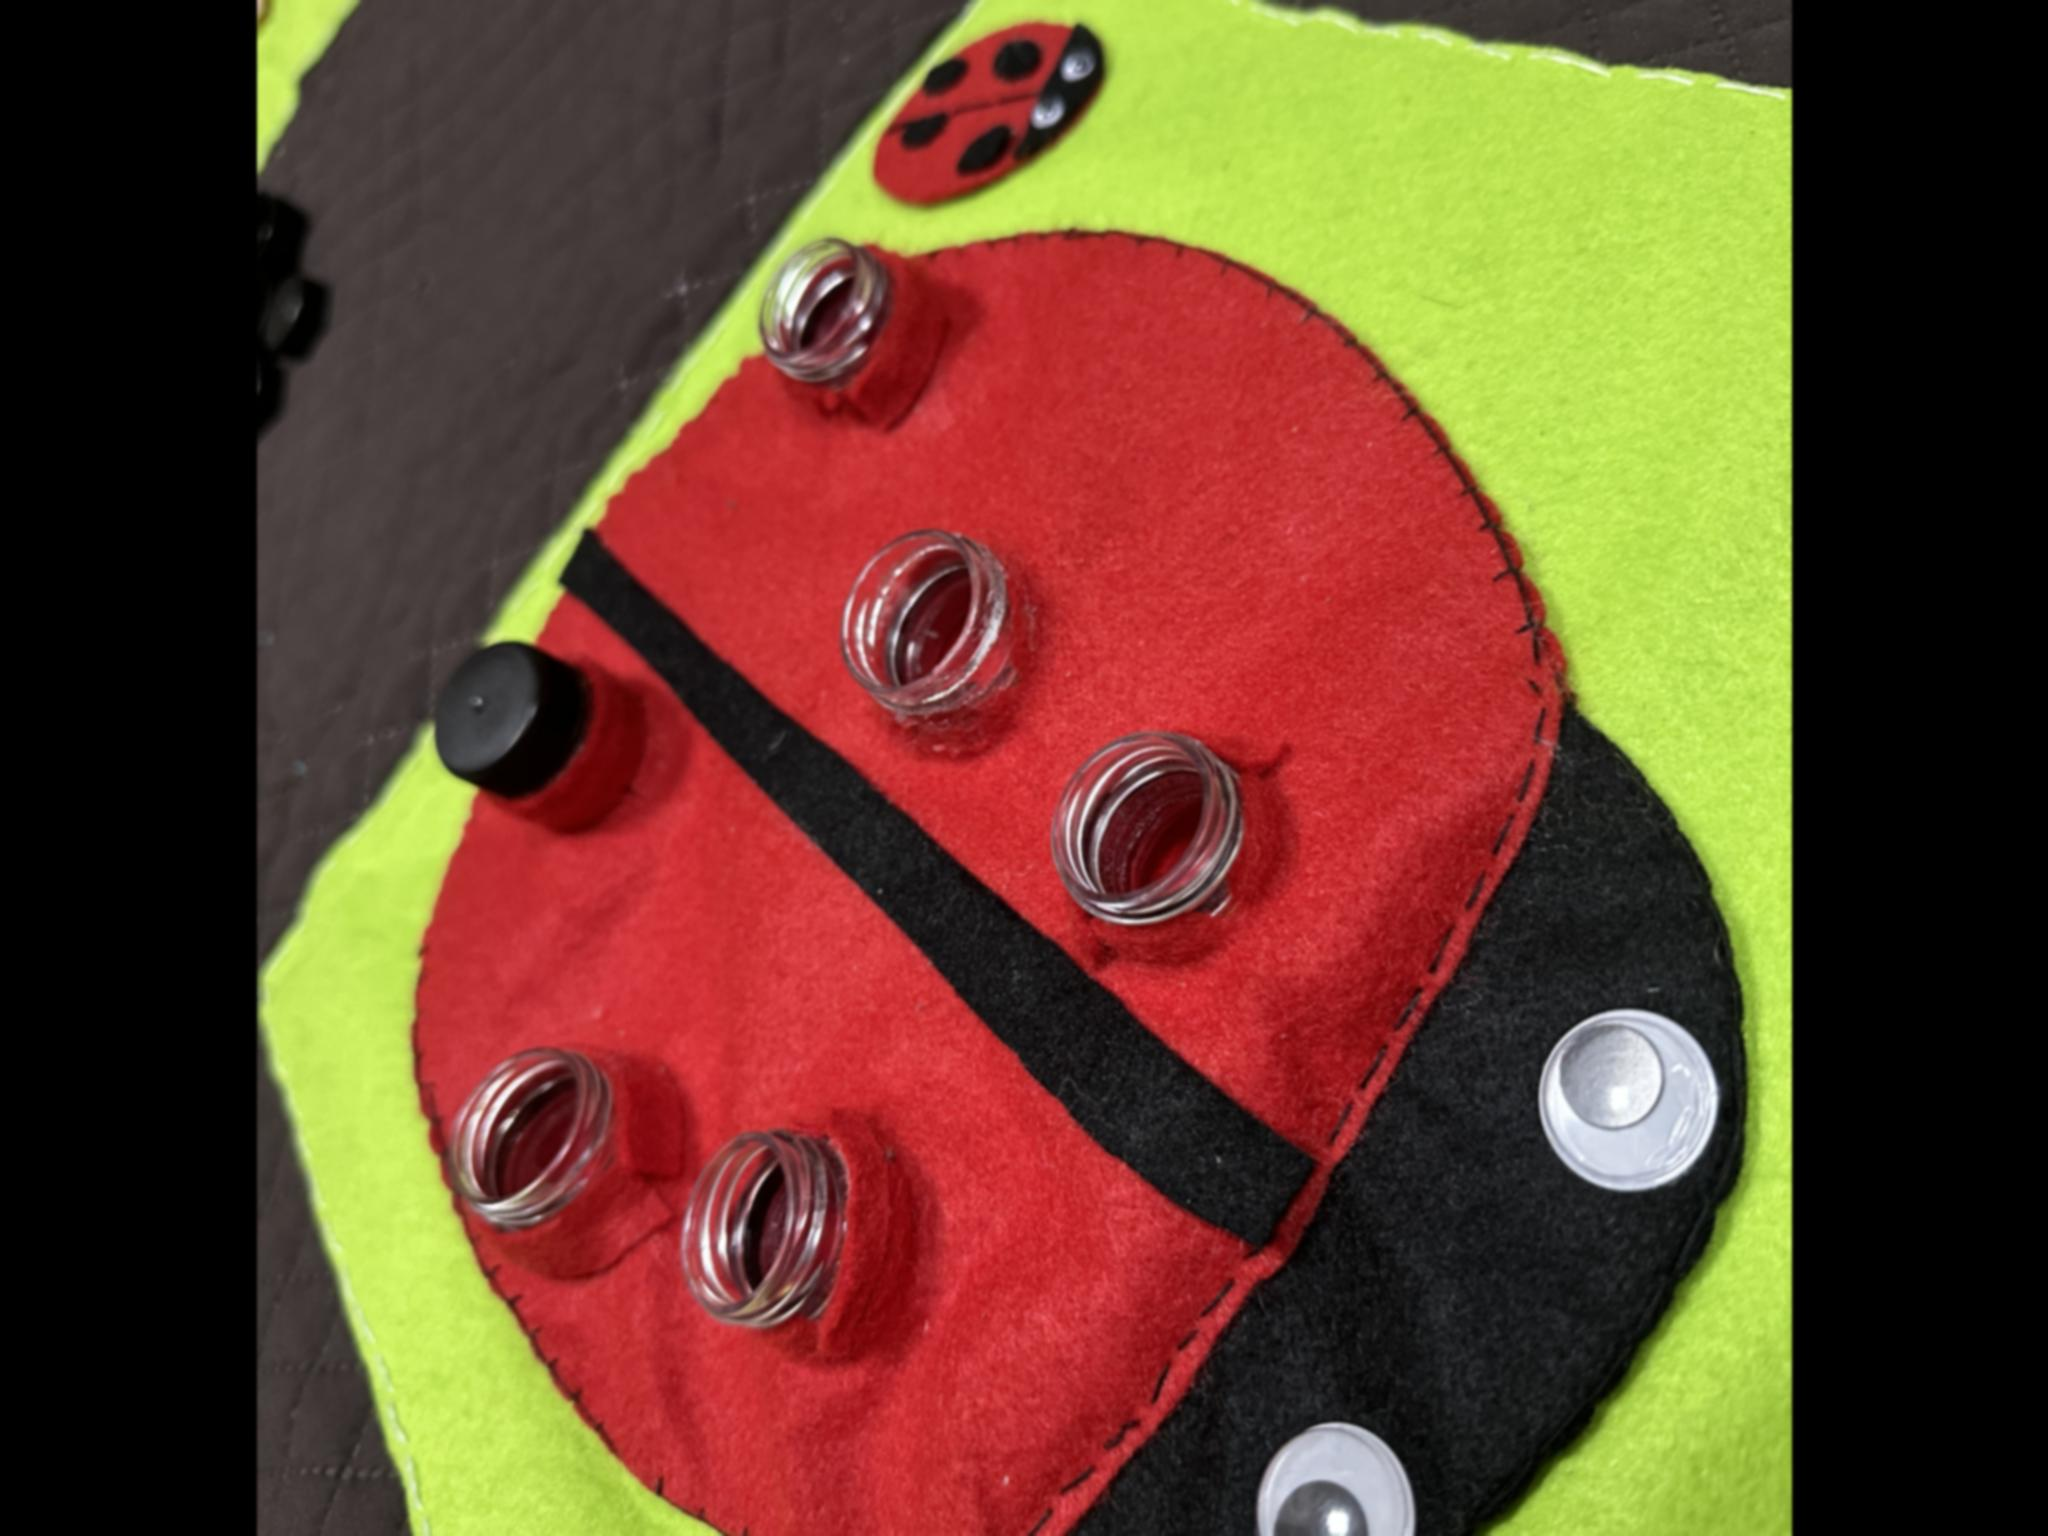cap_ok: (393, 611, 655, 866)
